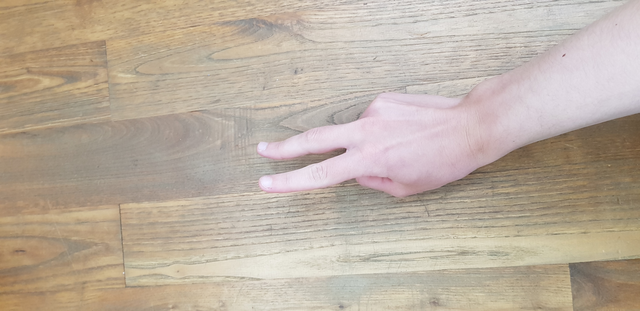Scissors: (231, 76, 510, 209)
